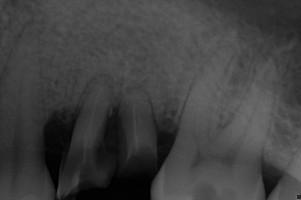Endo-Periodontal Lesion: (100, 105, 124, 165)
